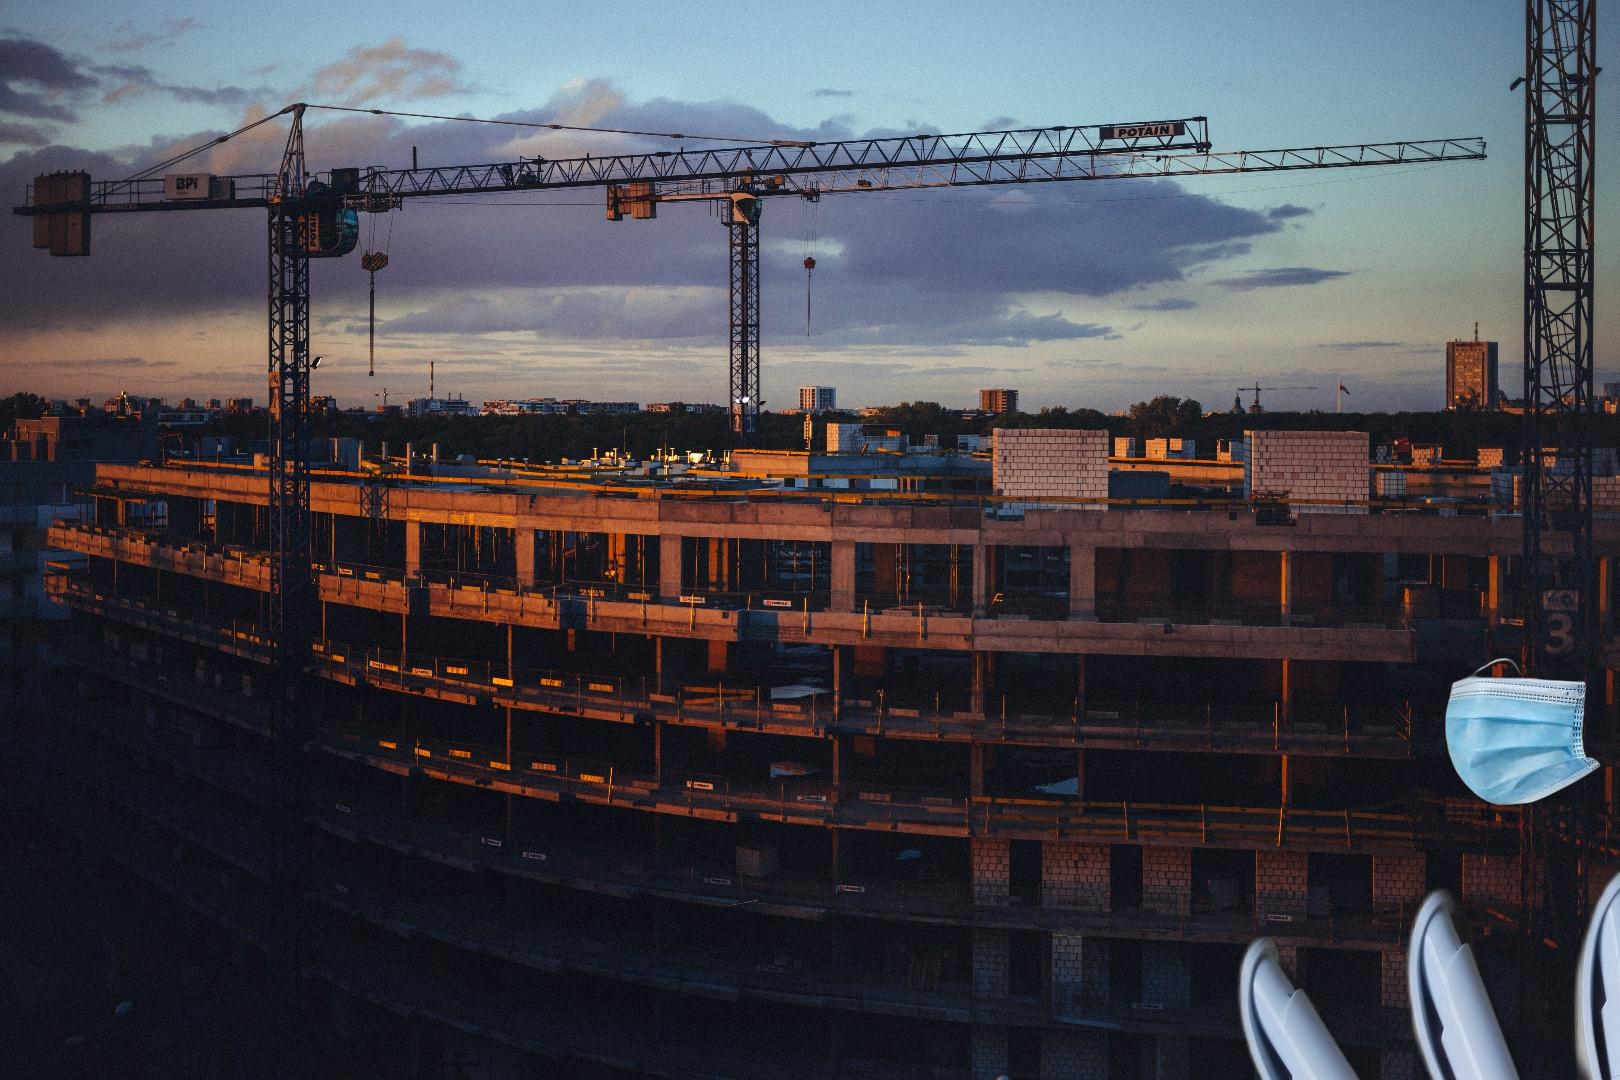penholder: (1229, 851, 1620, 1080)
trash: (1442, 655, 1603, 808)
